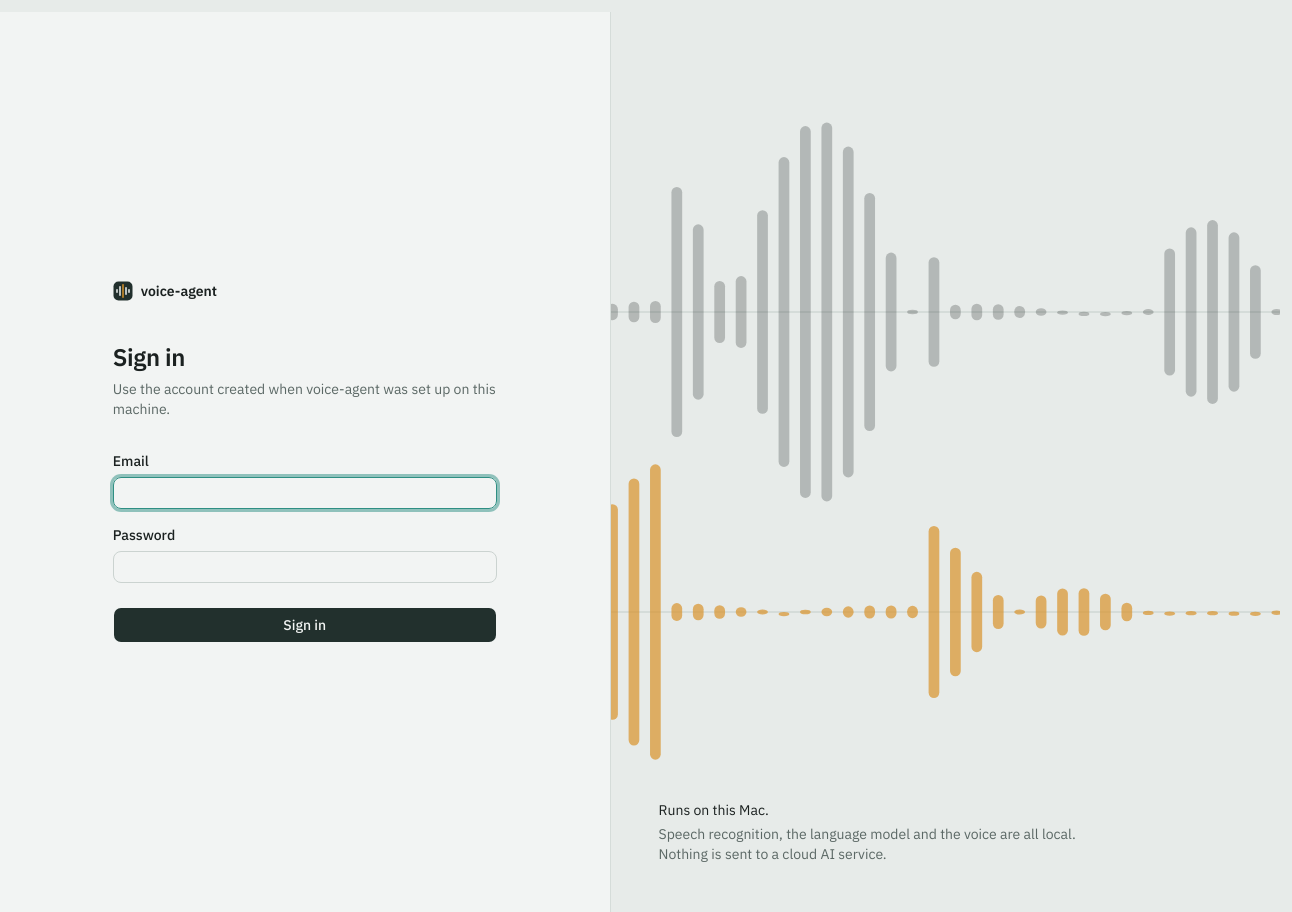
Scenario: LoginPage › shows a network error when the API is unreachable
Type "owner@example.com" into the field labelled "Email" at (305,493), box [113,477,497,509]
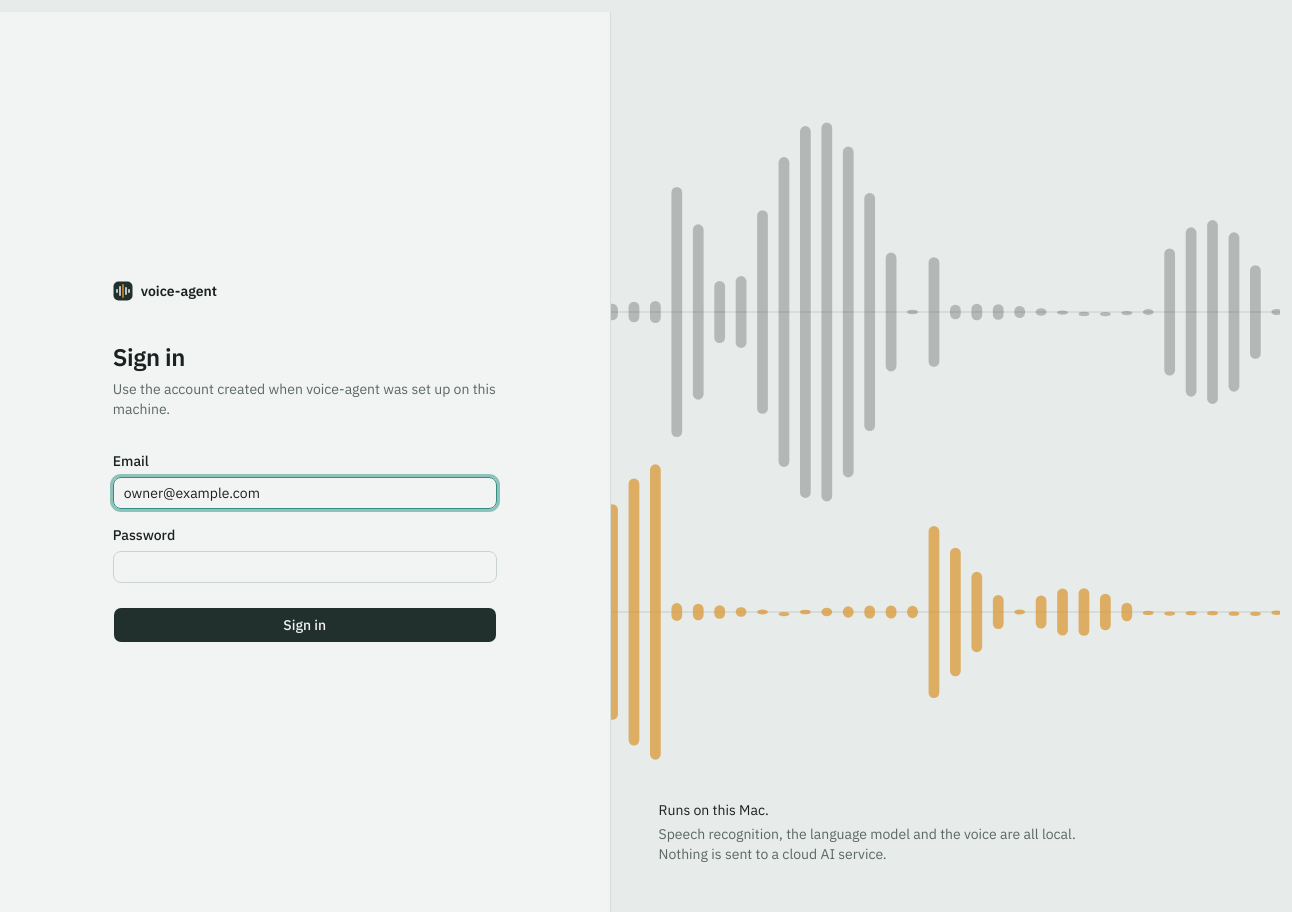
Type "secret" into the password field labelled "Password" at (305,567), box [113,551,497,583]
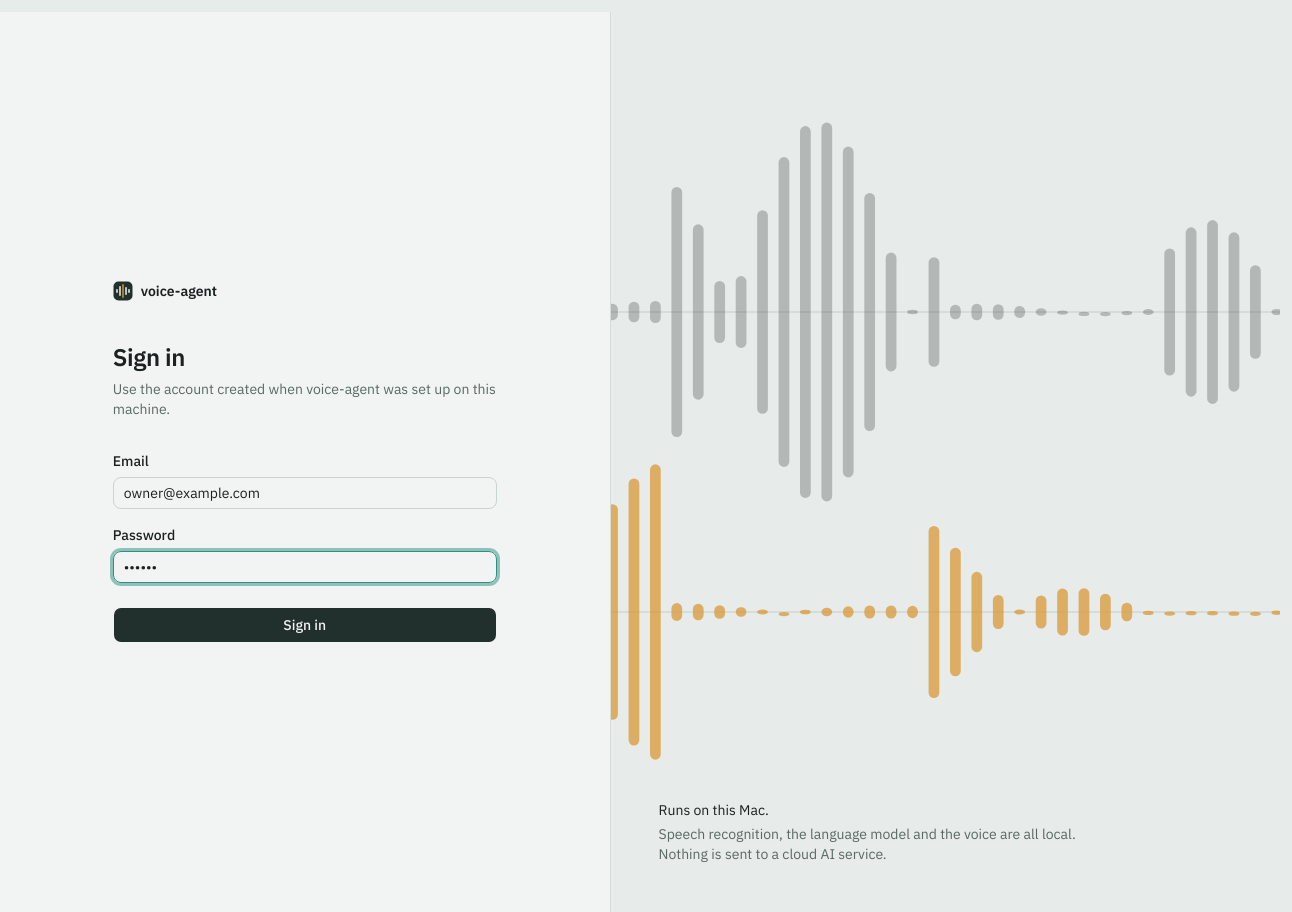
Click the button "Sign in" at (305,625), box [113,607,497,643]
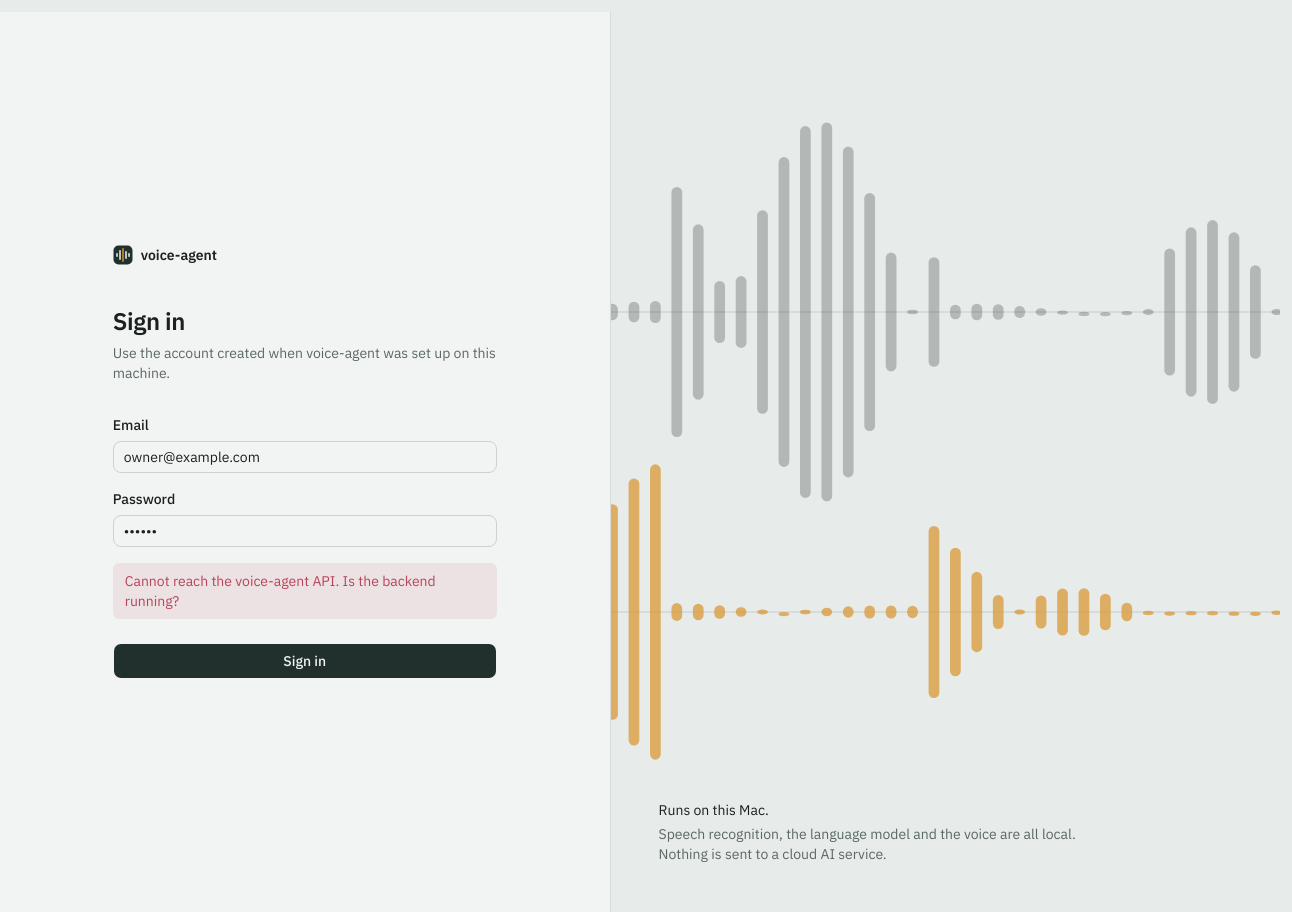
Result: the message shows "Cannot reach the voice-agent API" at [125,572,436,610]
